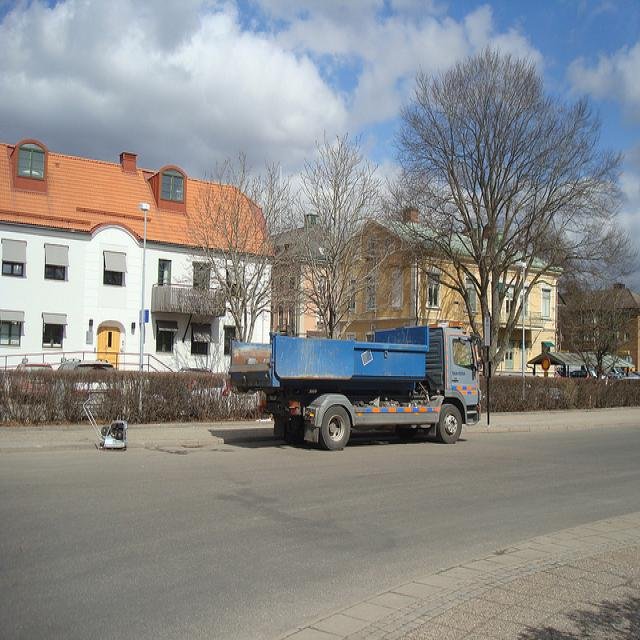Vehicle: (227, 322, 481, 453), (56, 357, 116, 371), (14, 362, 56, 371), (590, 370, 598, 378)
